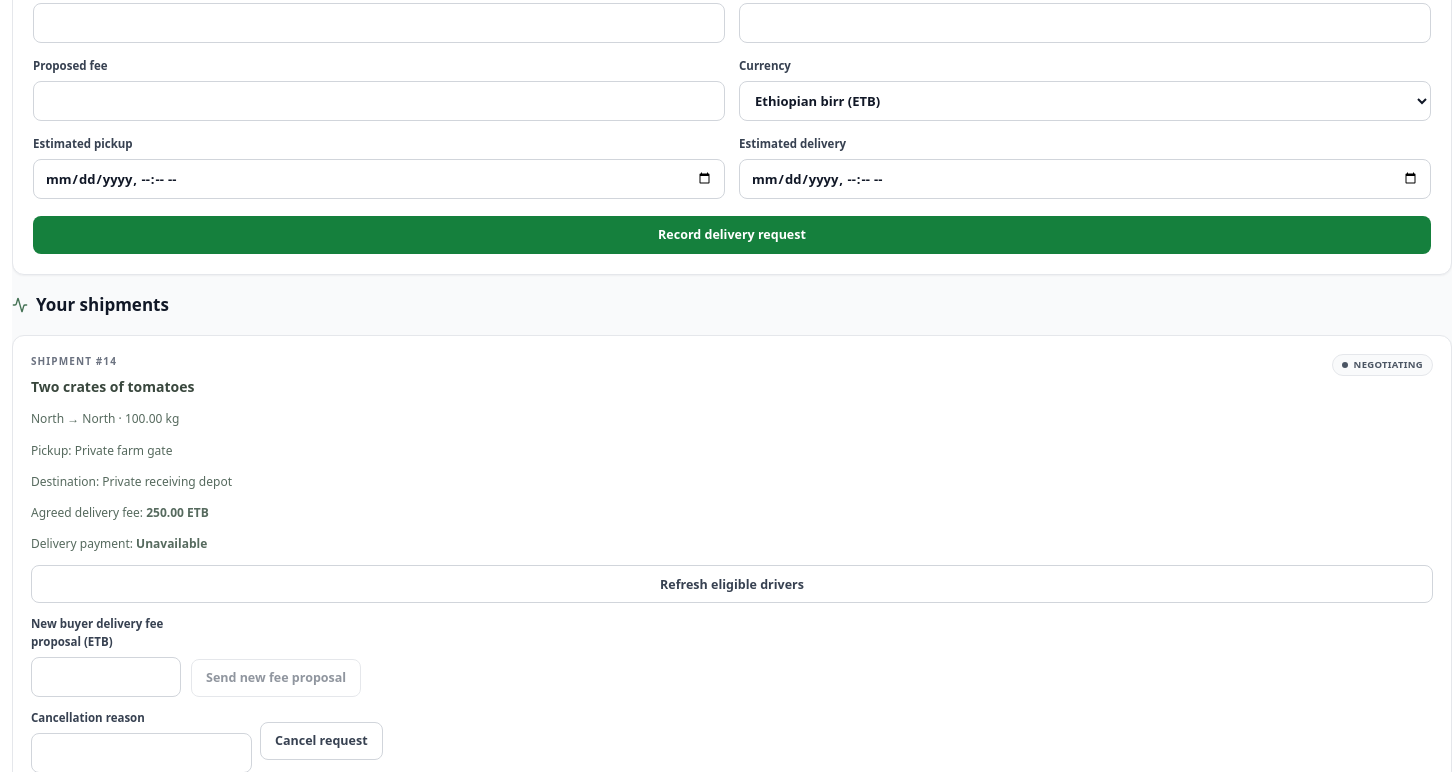
Test: Phase 3 shipment workspace › submits a new buyer fee proposal as a new version
(page scrolled)
Type "275.00" into the number field named "New fee proposal for shipment 14" at {"x": 106, "y": 677}, box [31,657,181,697]
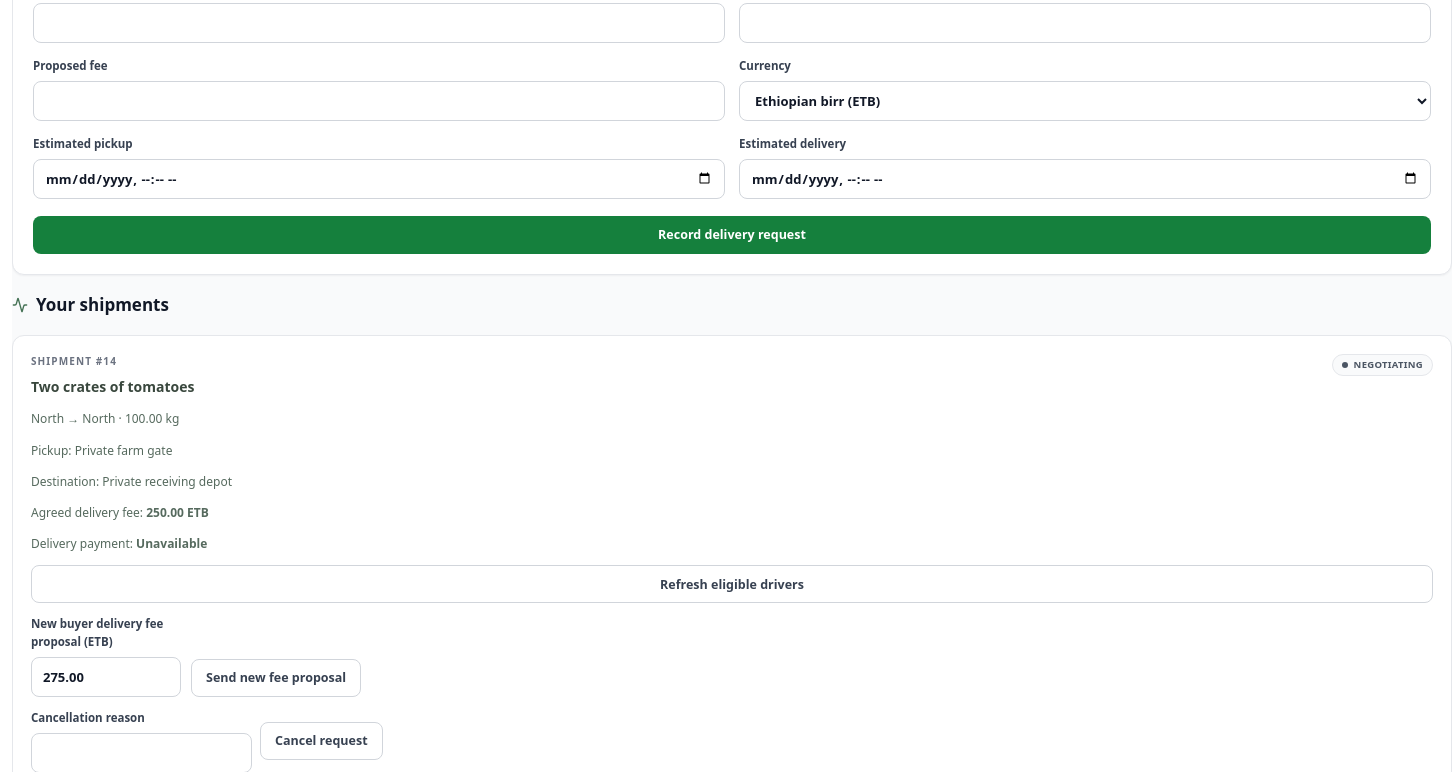
Click the button "Send new fee proposal" at {"x": 276, "y": 678}, box [191,659,361,697]
(page scrolled)
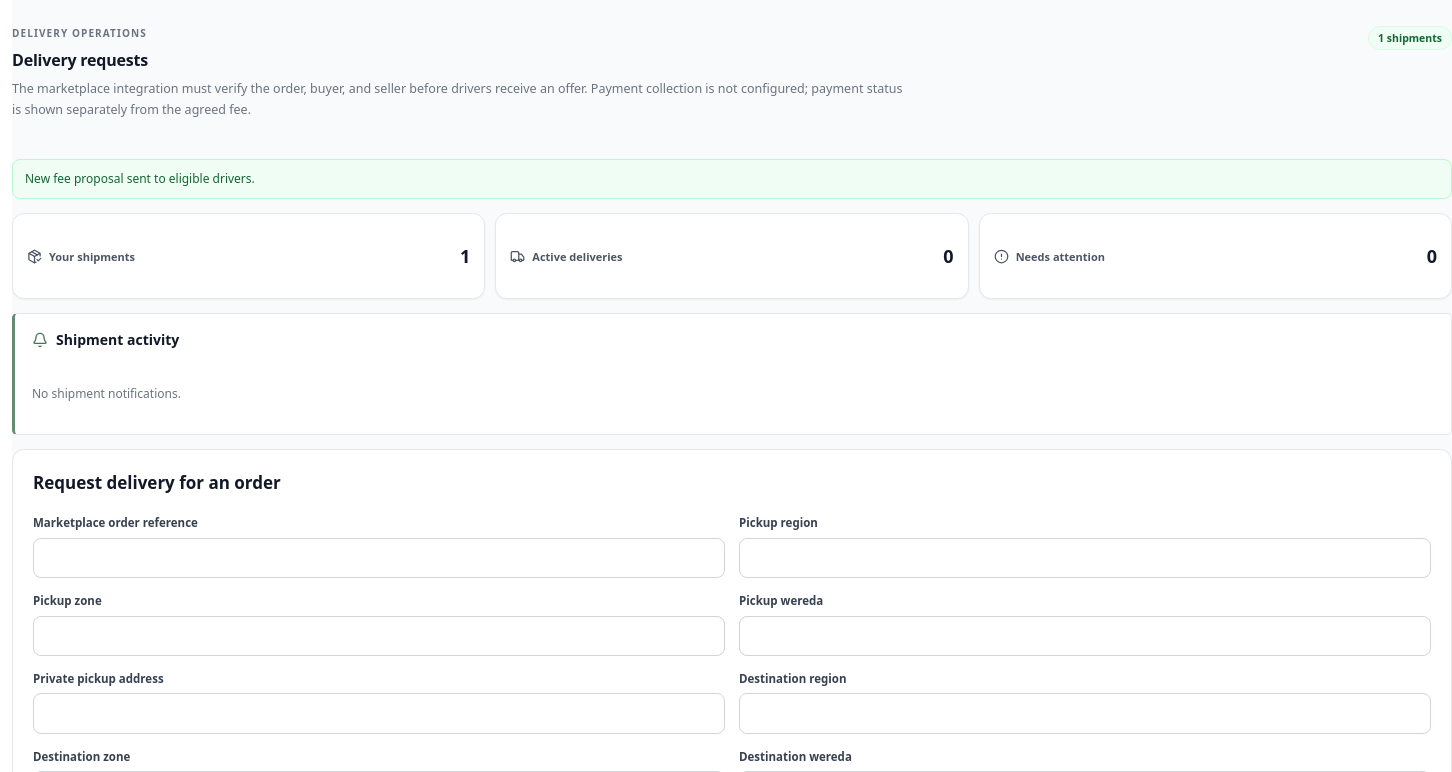
Expected: the text "New fee proposal sent to eligible drivers." is shown, [12,158,1451,199]
